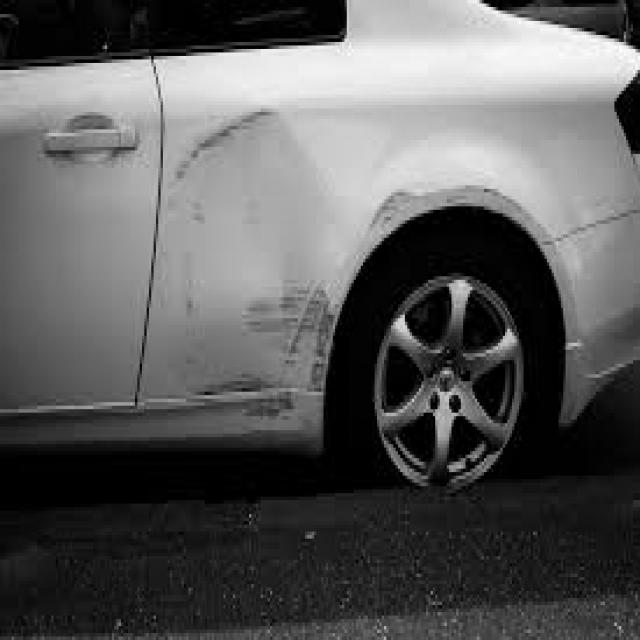minor: (168, 60, 333, 462)
